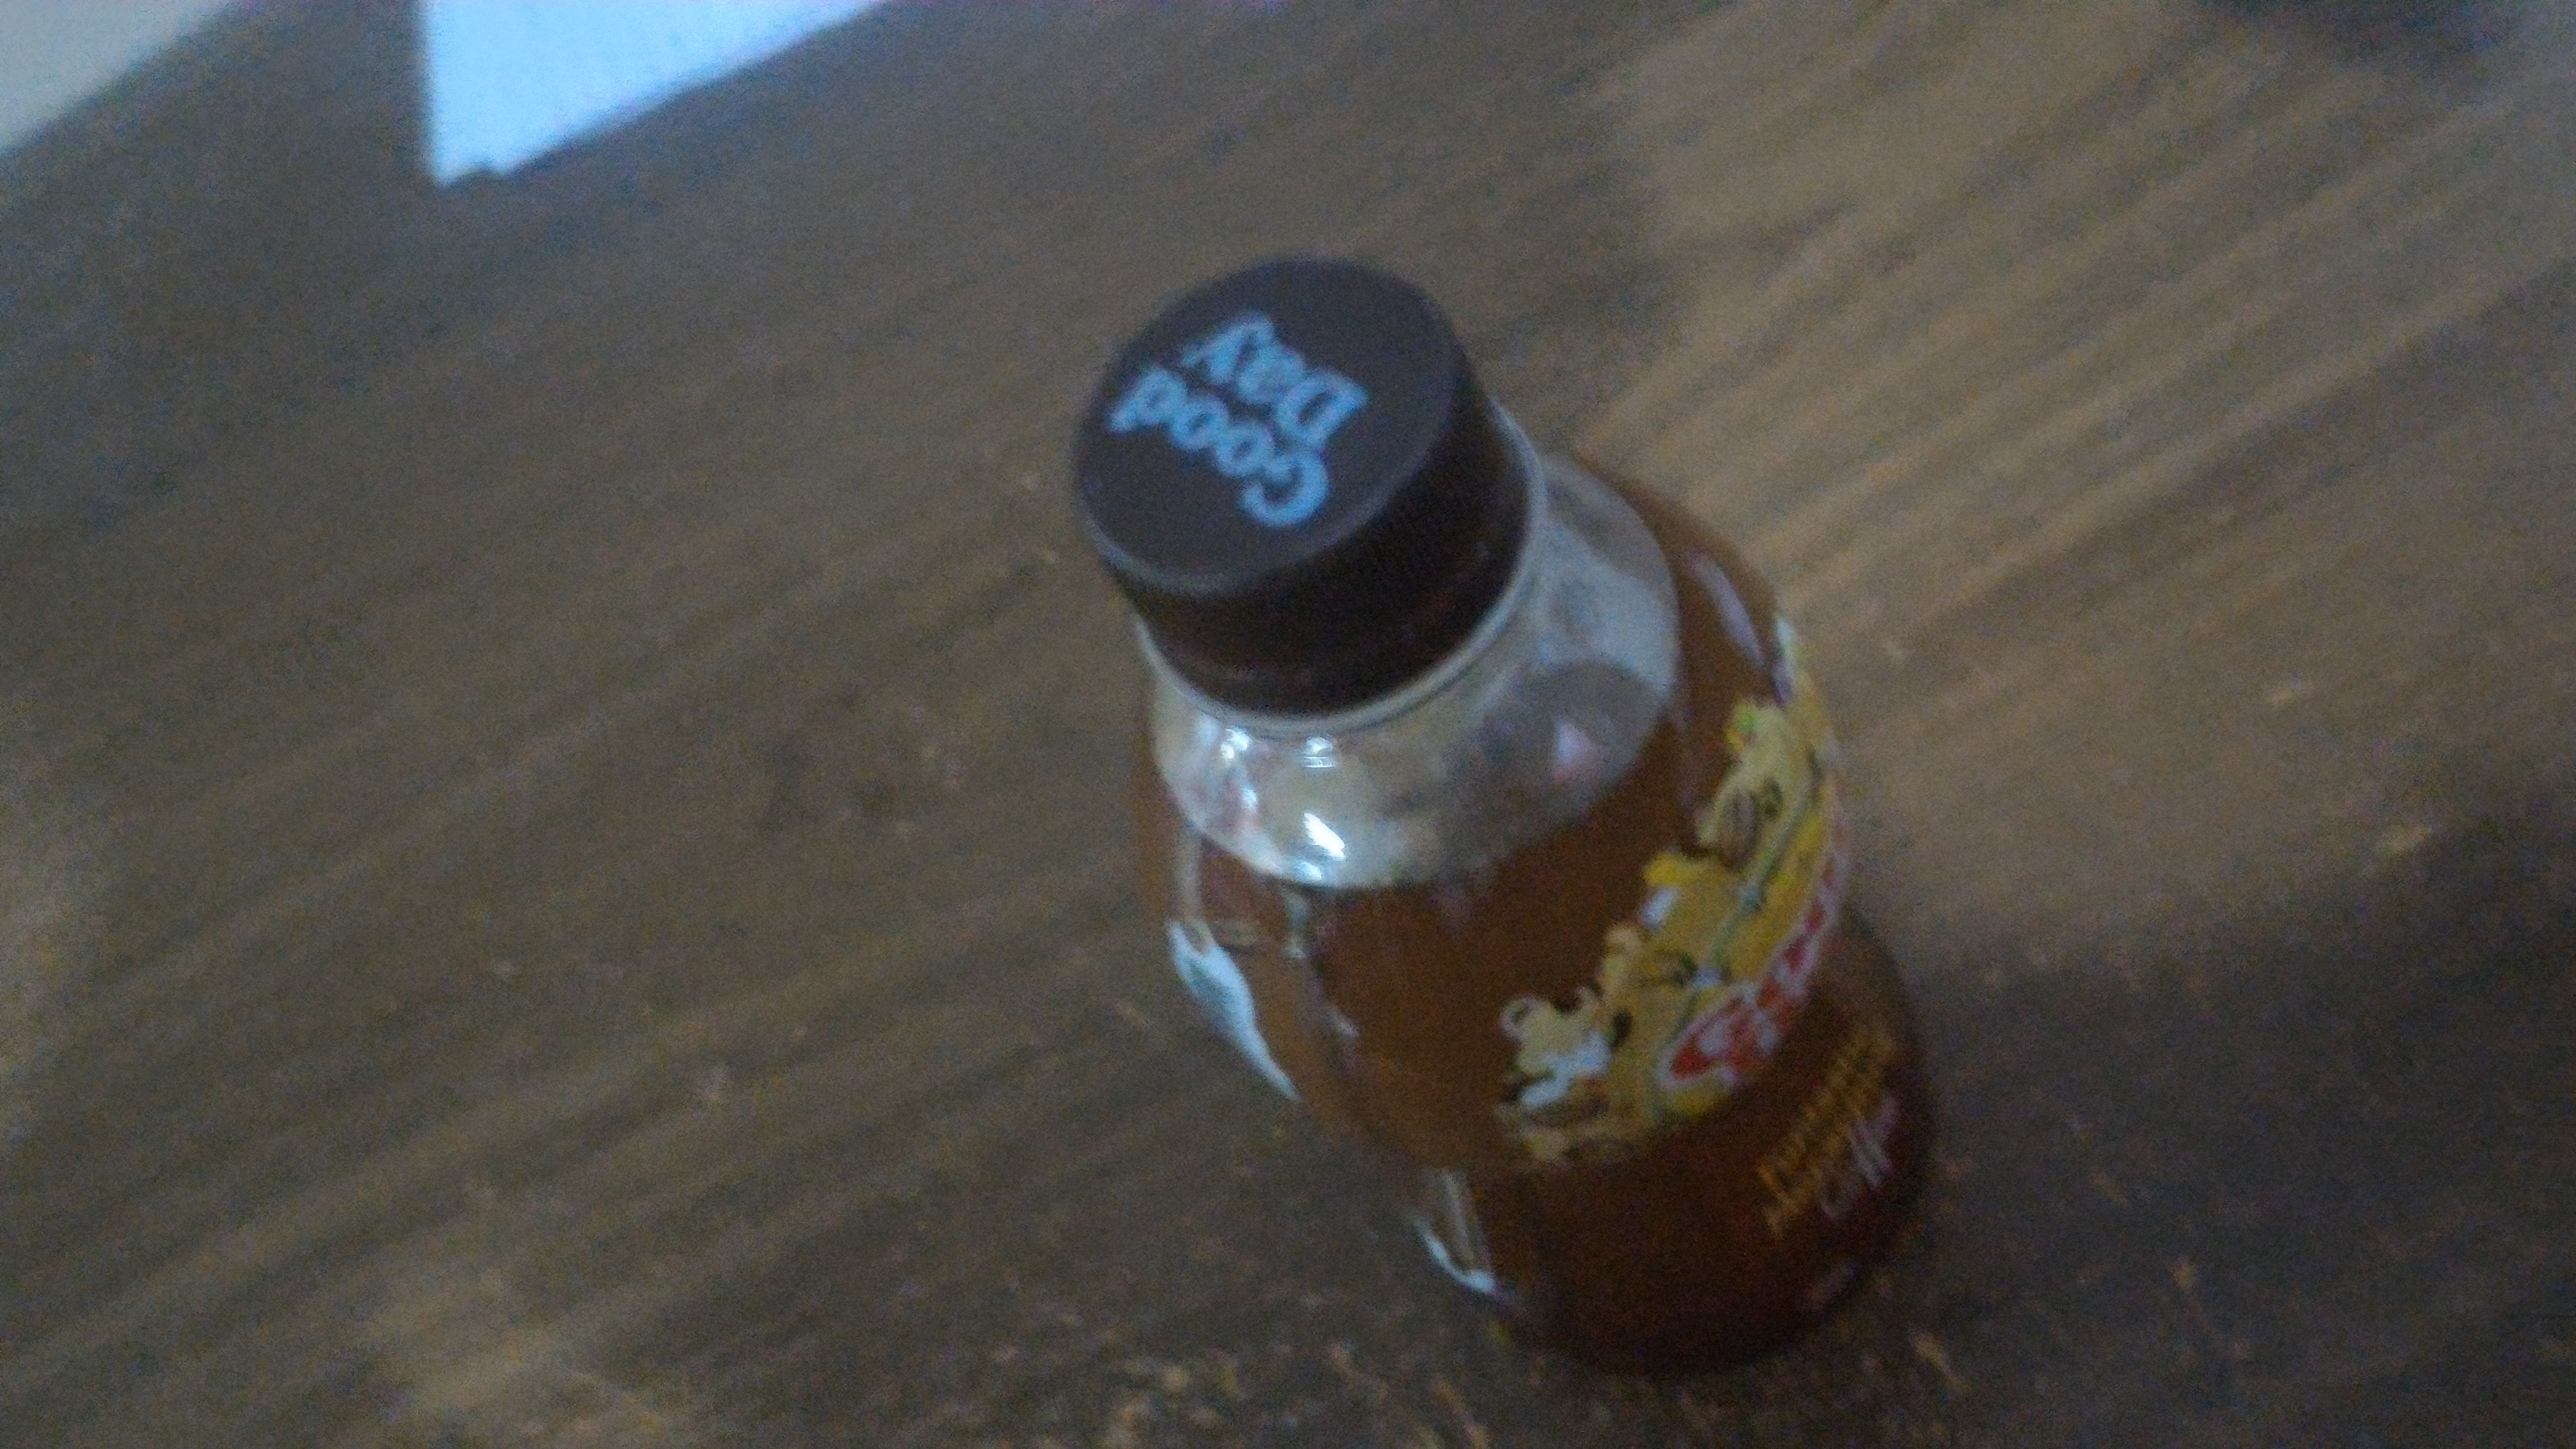botol: (1012, 242, 1927, 1373), (1012, 242, 1927, 1353)
